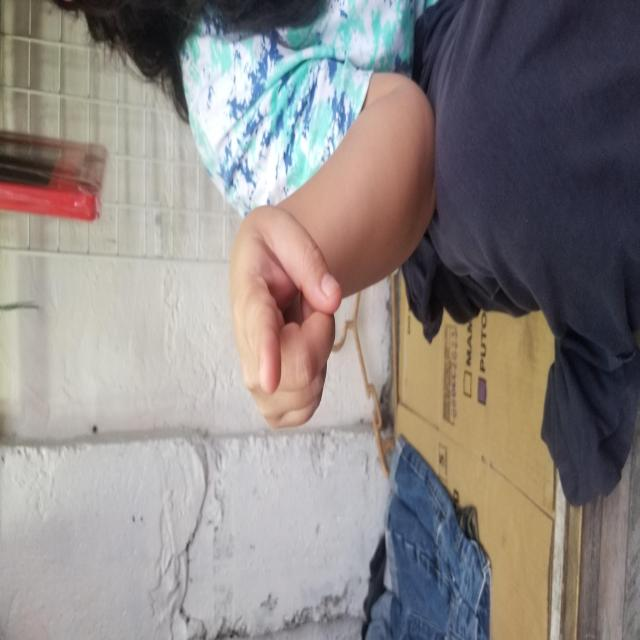Z: (211, 230, 346, 448)
